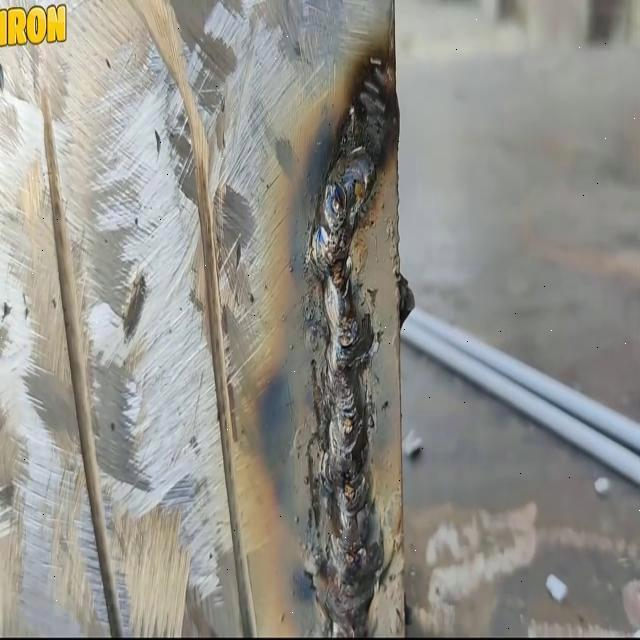Bad Welding: (306, 60, 398, 634)
